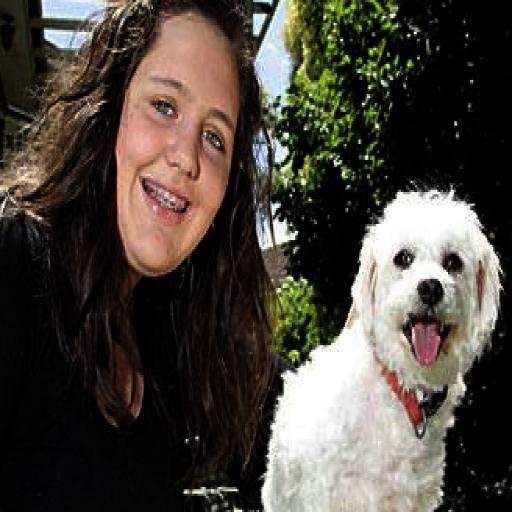dog_face: (359, 179, 504, 374)
